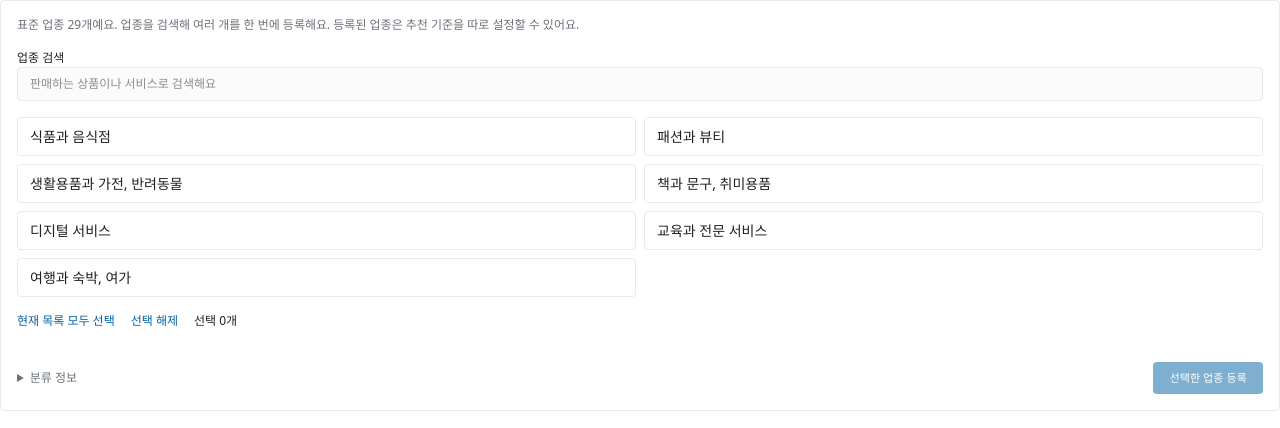
Test: 기존 MCC 이름·예시·코드로 검색하고 결과 없음 상태를 보여준다
Type "서적 판매" into the search field at (640, 84), box [17,67,1263,101]
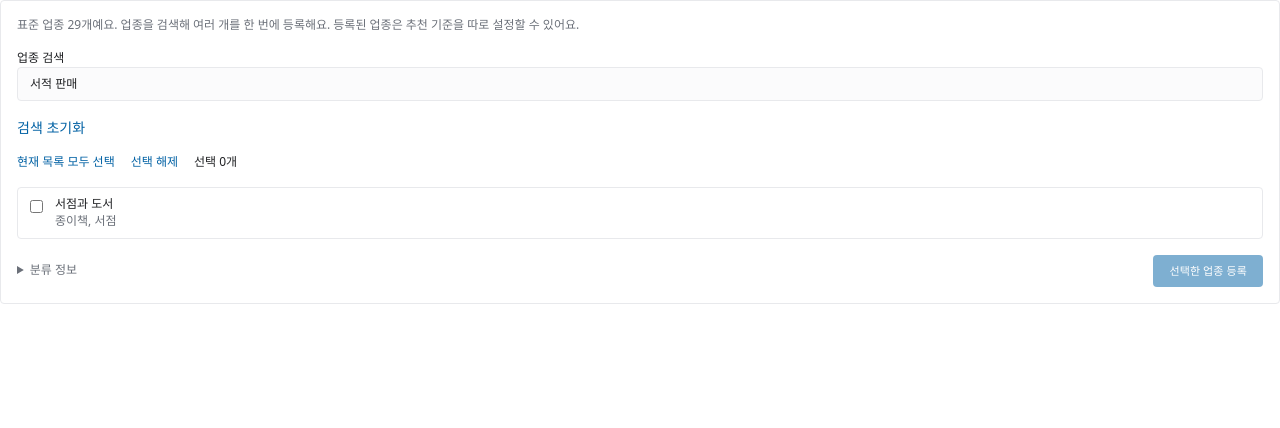
Now the checkbox labelled "서점과 도서 종이책, 서점" is shown, box [30,200,43,213]
Replace the text in the search field with "종이책" at (640, 84), box [17,67,1263,101]
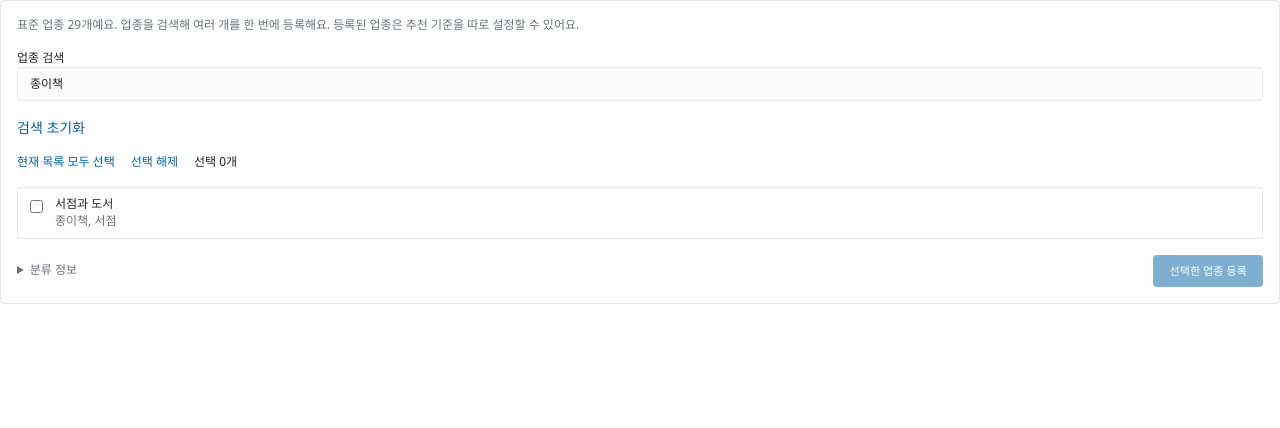
Now the checkbox labelled "서점과 도서 종이책, 서점" is shown, box [30,200,43,213]
Replace the text in the search field with "5942" at (640, 84), box [17,67,1263,101]
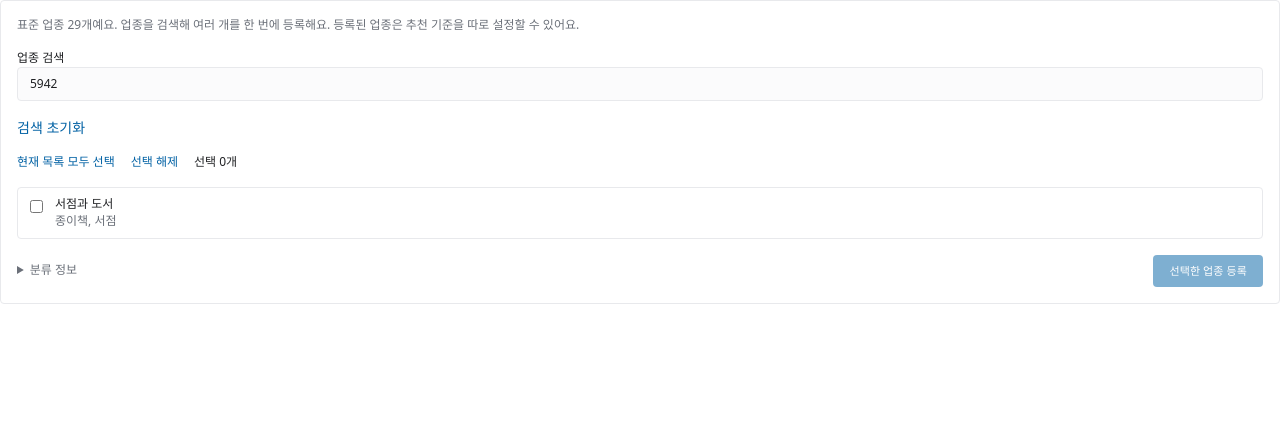
Now the checkbox labelled "서점과 도서 종이책, 서점" is shown, box [30,200,43,213]
Replace the text in the search field with "해당하지 않는 업종" at (640, 84), box [17,67,1263,101]
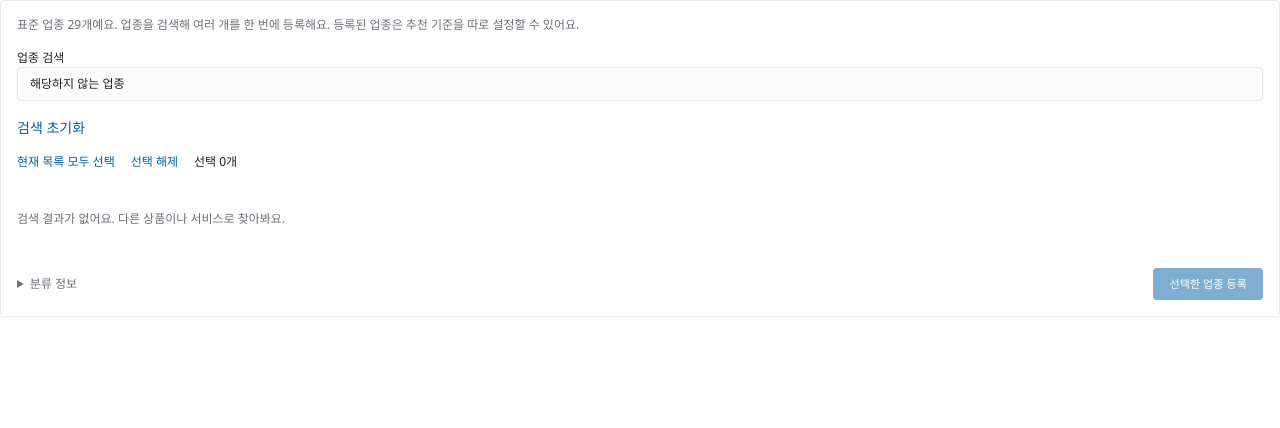
Now the text "검색 결과가 없어요. 다른 상품이나 서비스로 찾아봐요." is shown, box [17,210,285,227]
Now the checkbox is gone
